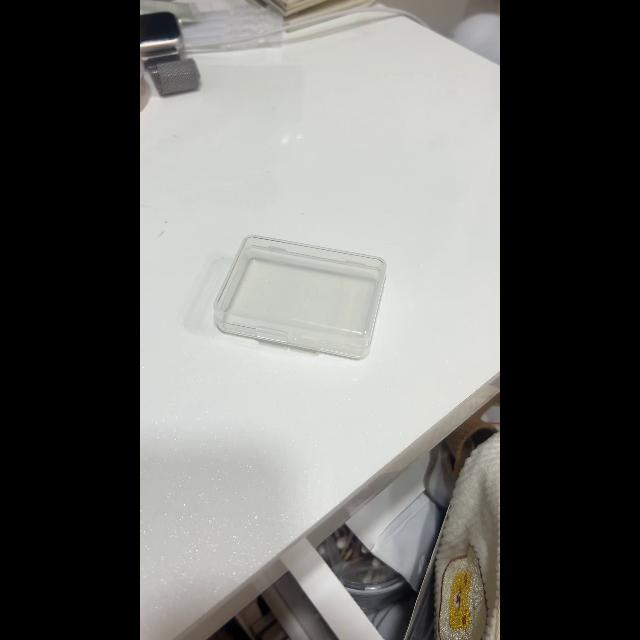clean: (212, 234, 386, 358)
